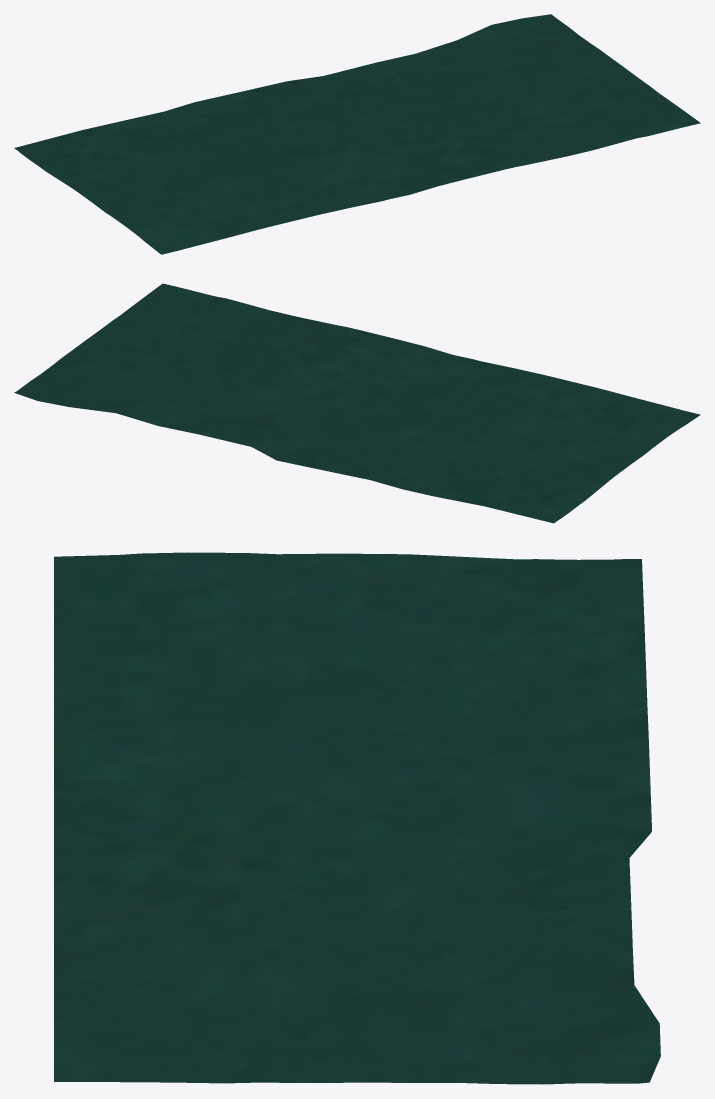
The picture shows the model from 3 angles, top to bottom: view 1: azimuth 30°, elevation 25°; view 2: azimuth 150°, elevation 25°; view 3: azimuth 270°, elevation 25°; orthographic projection. The views are drawn at different scales.
Bounding box in the file's own units: 52.22 × 0.553 × 25.5.
1 material, 1 textured.
